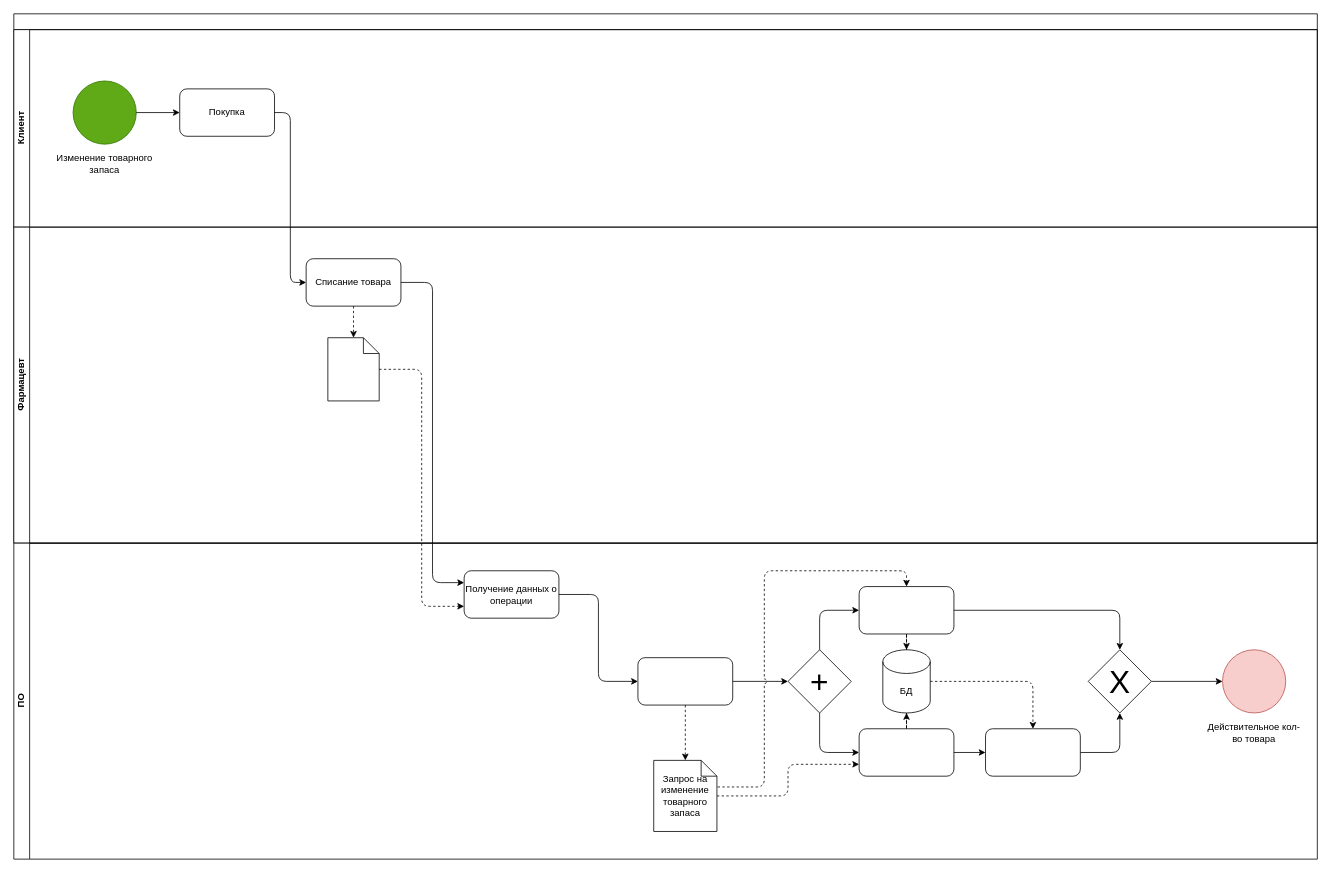
The diagram is 1331 pixels wide and 873 high, and some of its shapes have lost their labels. Each missing label, with the box of its shape:
Ведомосто: (327, 337, 379, 401)
Изменение записи товарного запаса: (858, 728, 954, 776)
Получение действительного кол-во товарного запаса из БД: (985, 728, 1080, 776)
Создание записи об операции: (858, 586, 954, 634)
Формирование запроса на изменение товарного запаса: (637, 657, 733, 705)
